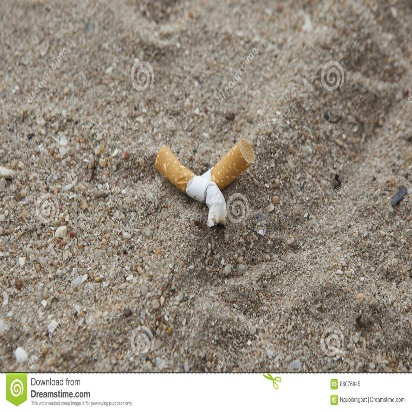cigarette: (152, 141, 233, 234), (196, 139, 261, 197)
